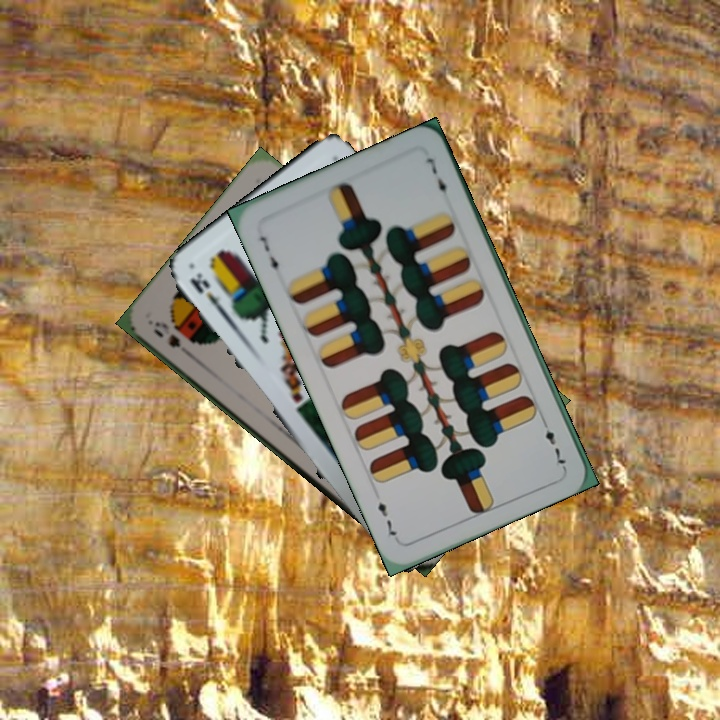E7: (537, 414, 569, 470), (255, 232, 282, 280)
EK: (185, 269, 230, 320)
SO: (149, 317, 183, 351)
